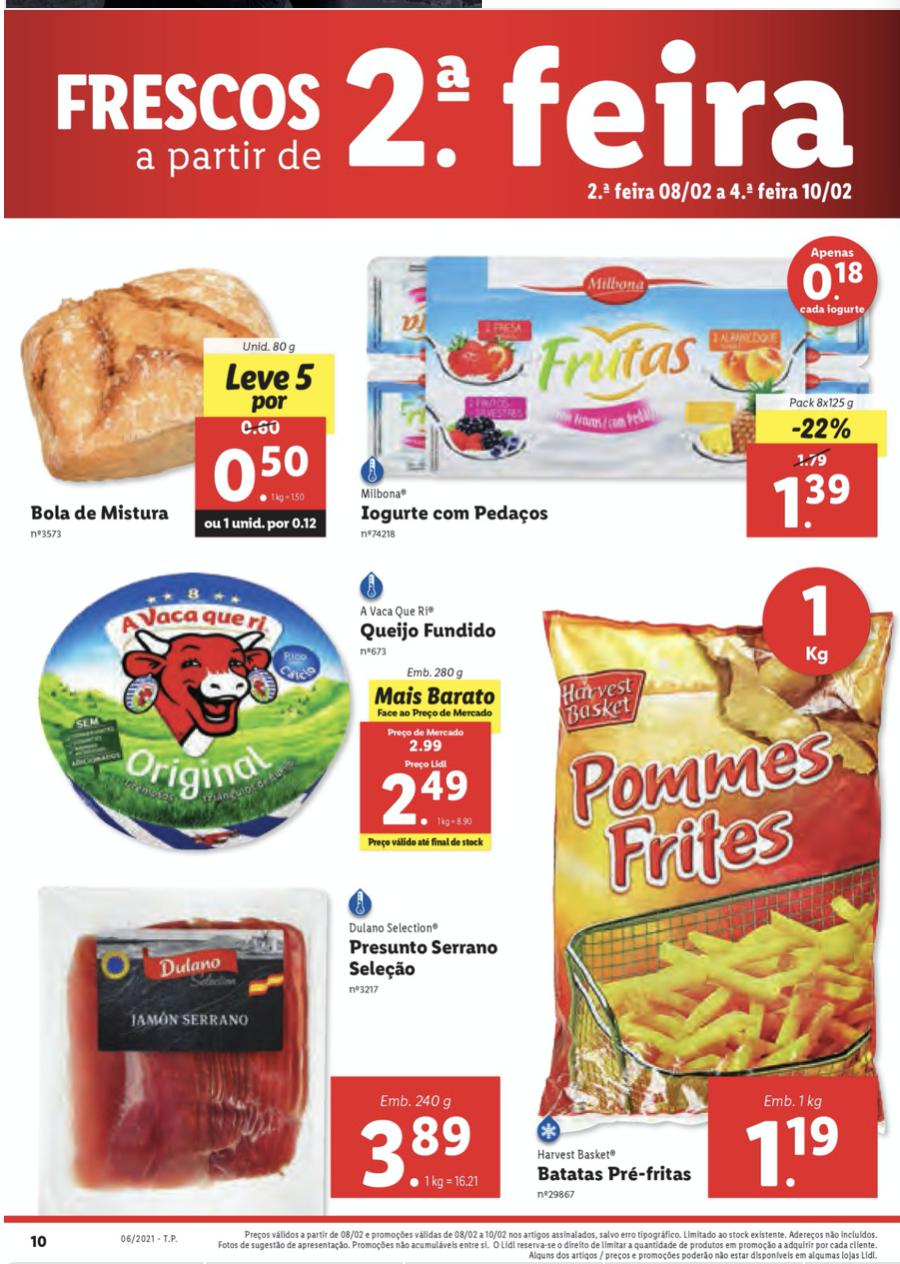name: (343, 934, 501, 981), (359, 500, 551, 526), (535, 1162, 696, 1189), (356, 618, 500, 645), (29, 500, 171, 526)
price: (353, 1114, 478, 1192), (734, 1109, 840, 1189), (209, 437, 314, 509), (376, 765, 473, 829), (767, 467, 851, 537)
product: (518, 587, 900, 1208), (353, 226, 896, 572), (18, 881, 507, 1204), (20, 561, 518, 861), (14, 259, 339, 550)
promotion: (787, 412, 859, 442)
